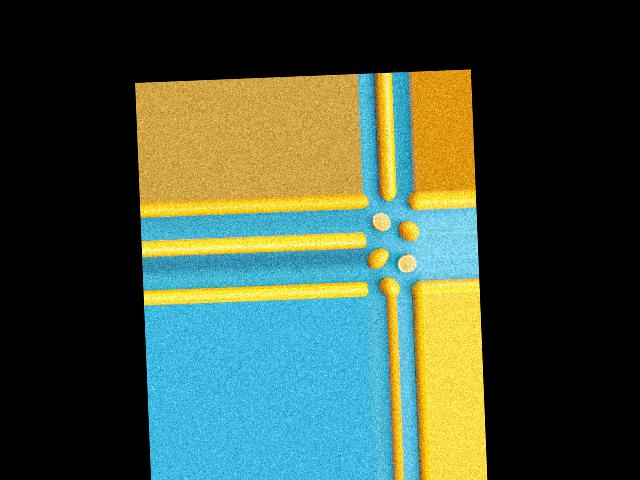lemon: (408, 278, 423, 296)
